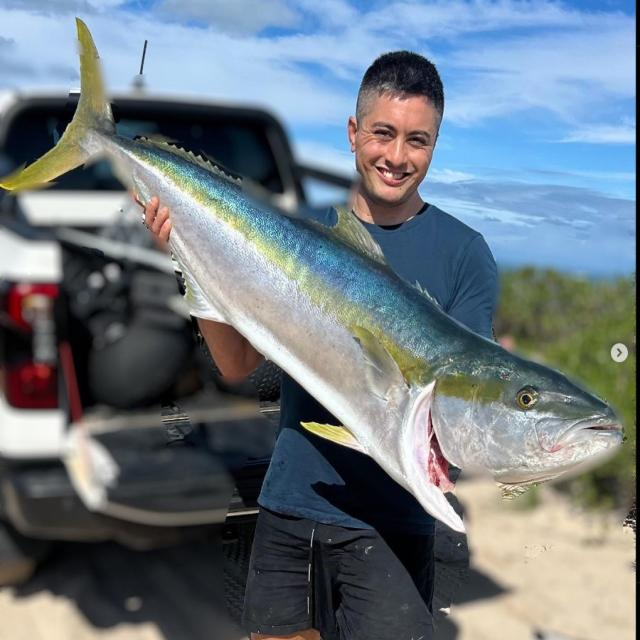Kingfish: (0, 11, 627, 537)
